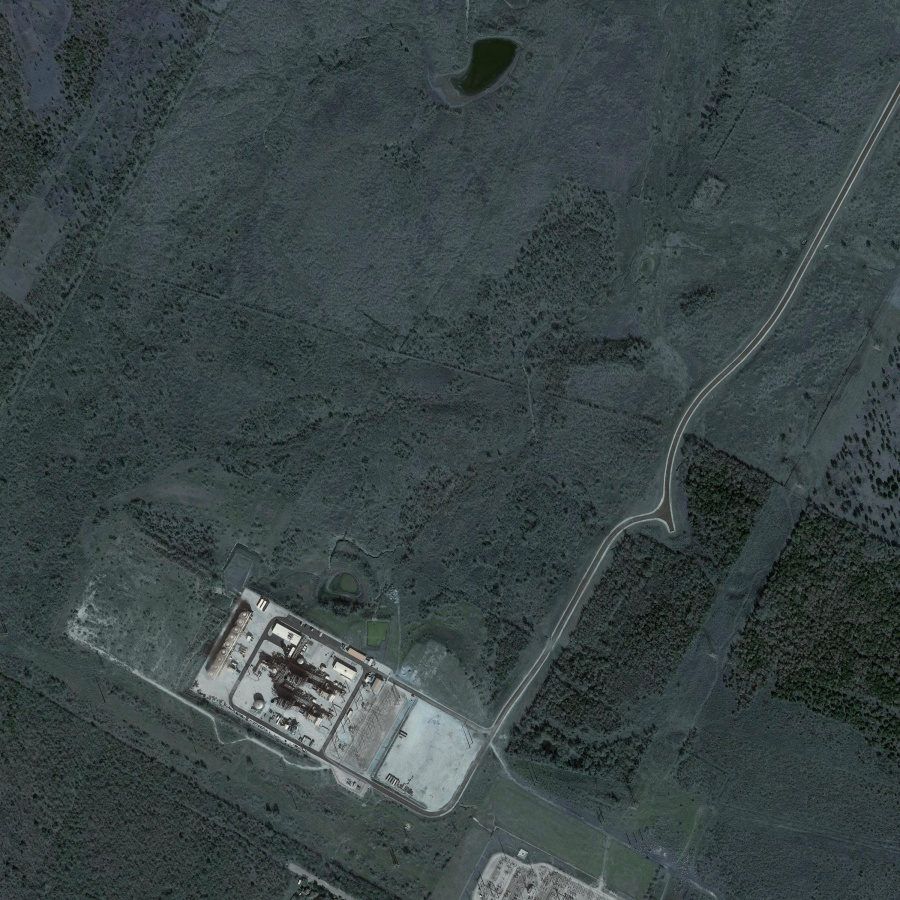PowerPlant: (196, 591, 406, 781)
